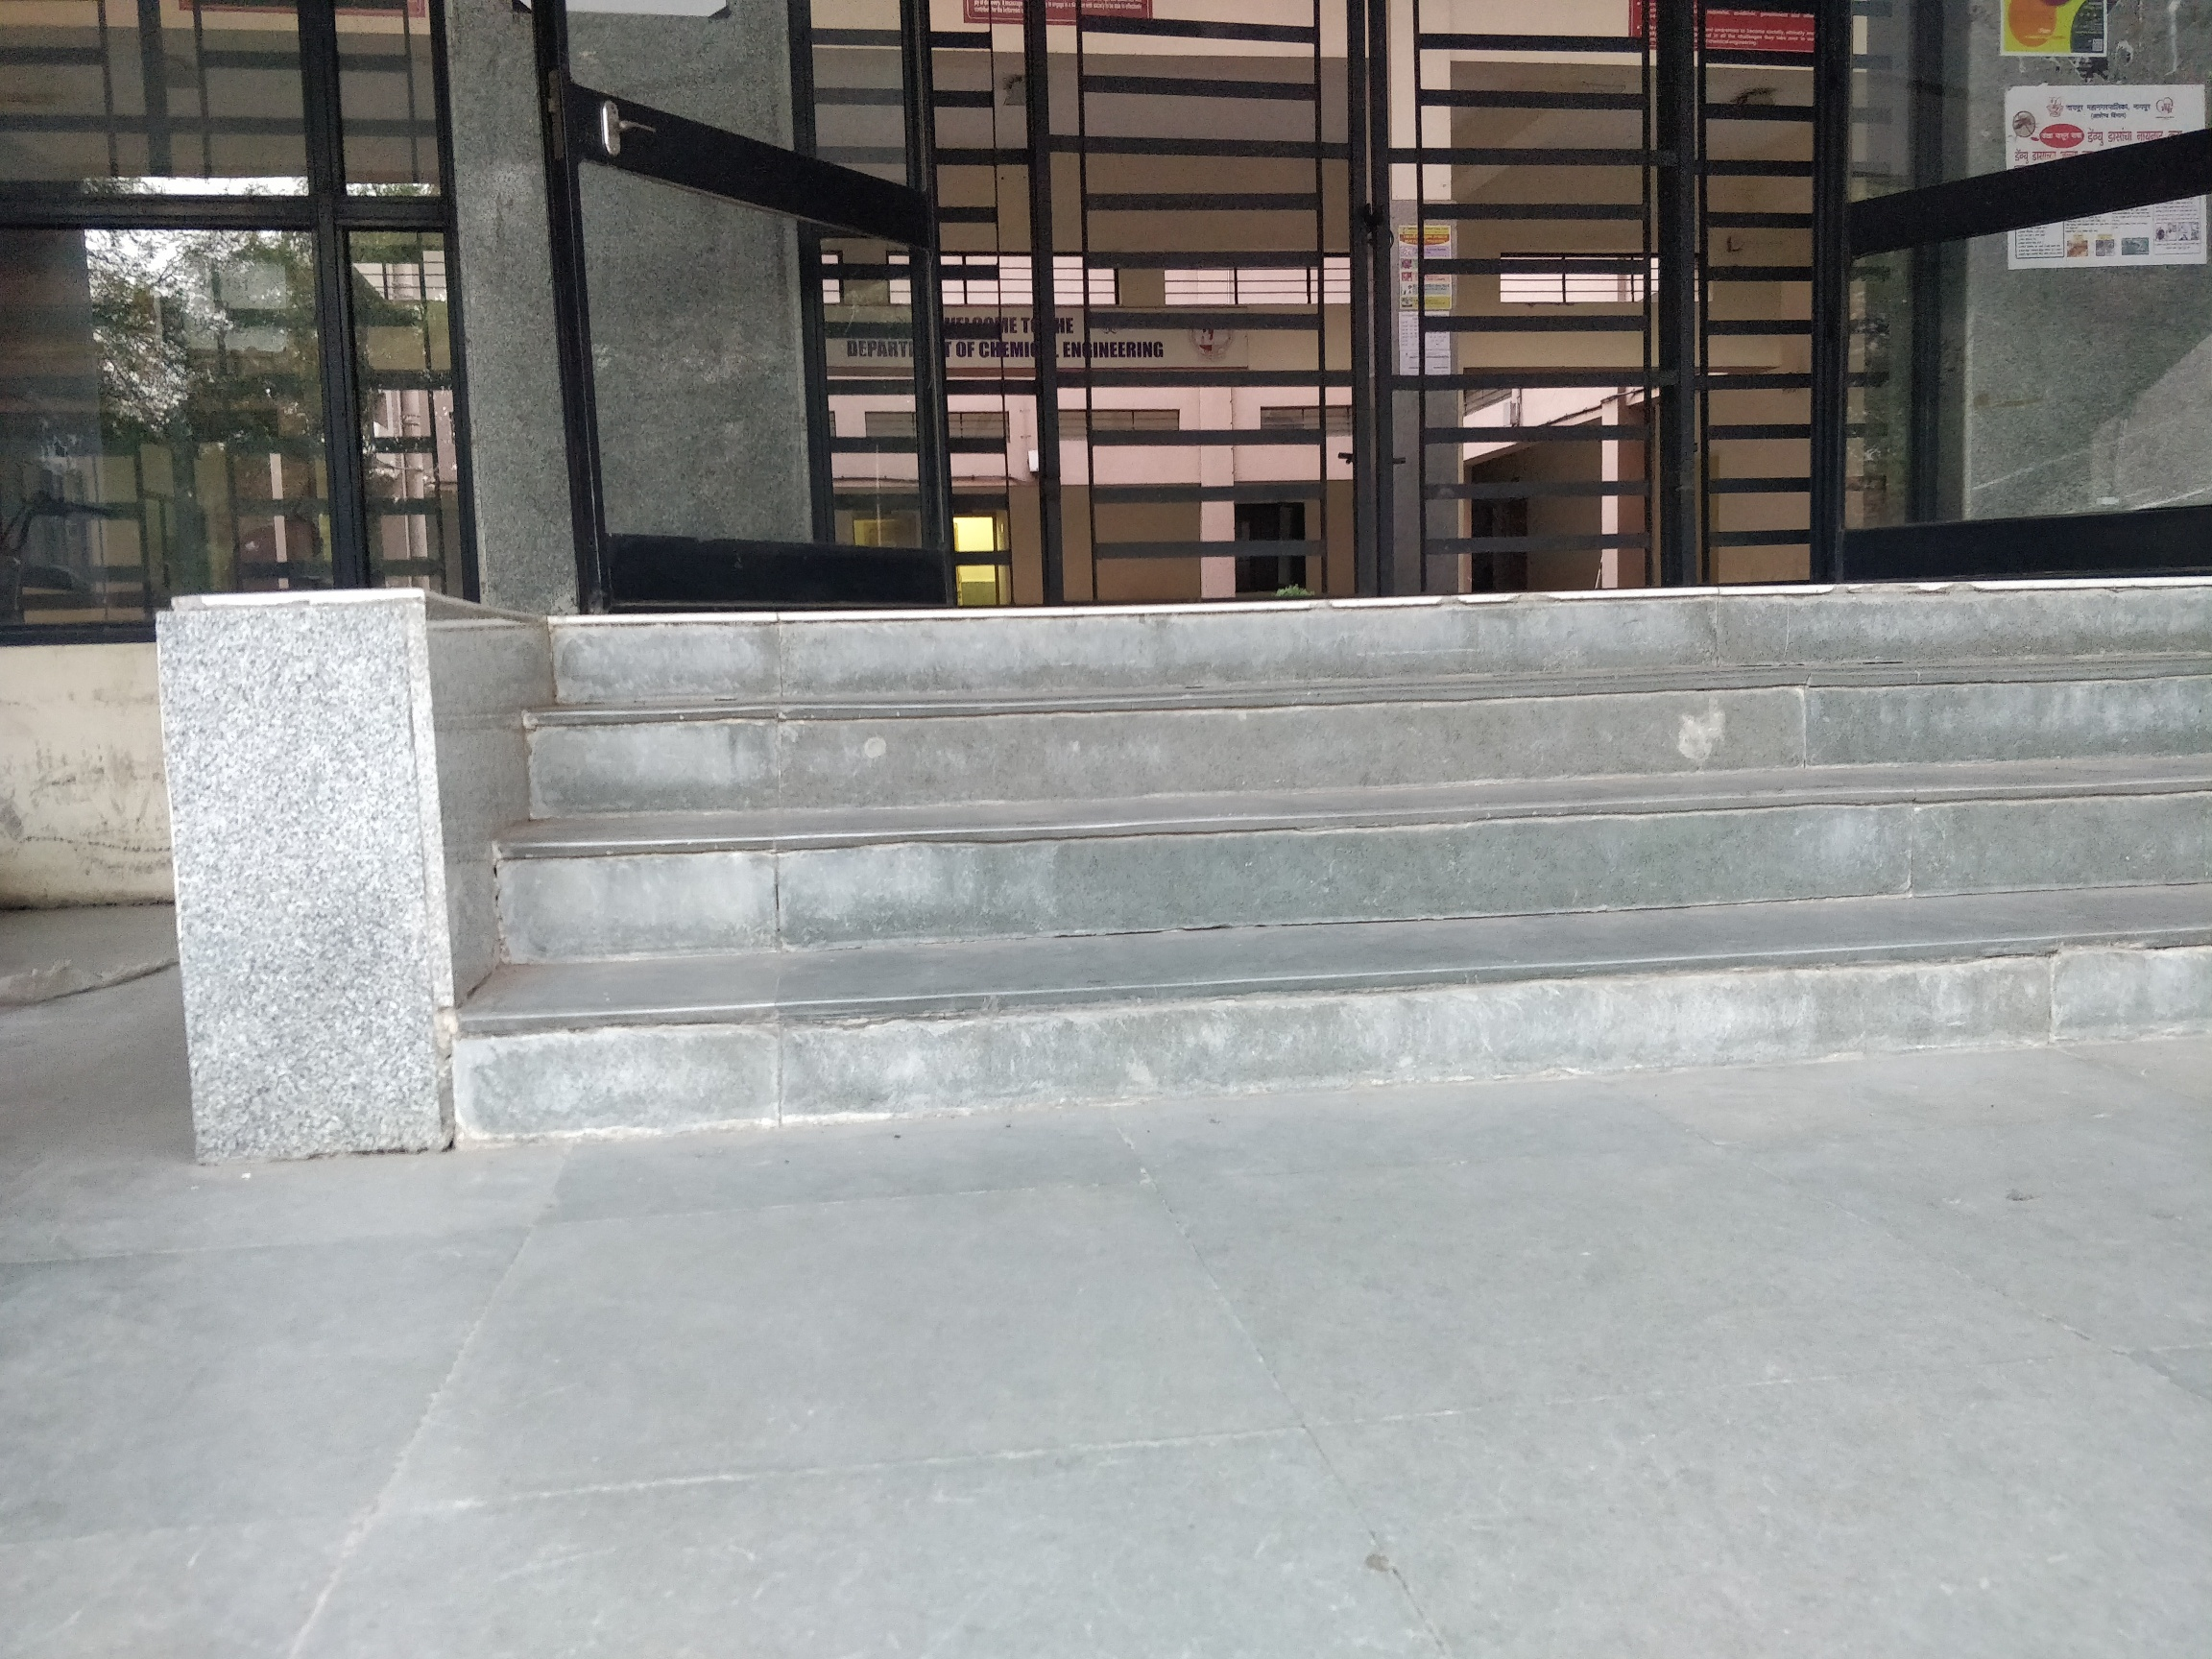stairs_up: (543, 599, 2212, 1082)
